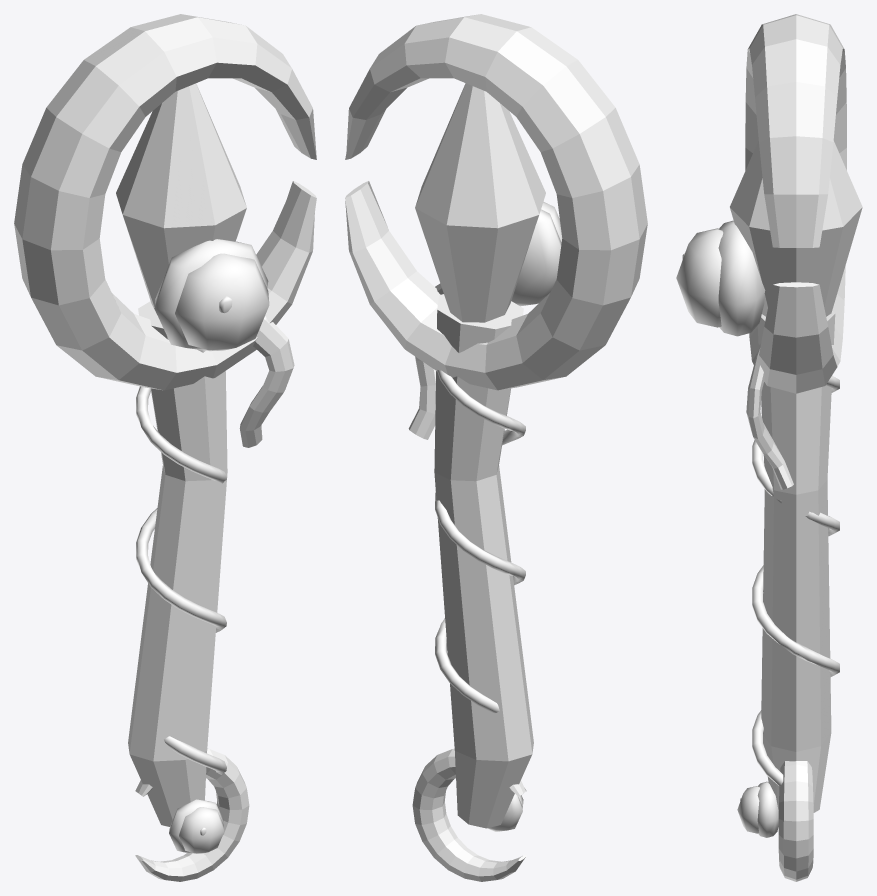
The model's file is shovel.obj.
3 renders of one model, left to right at view 1: azimuth 30°, elevation 25°; view 2: azimuth 150°, elevation 25°; view 3: azimuth 270°, elevation 25°, orthographic. The views are drawn at different scales.
Parts seen in each view (by area): view 1: head, handle, ornaments; view 2: head, handle, ornaments; view 3: head, handle, ornaments.
Boxes of the visible parts, bbox=[...] form: head: bbox=[14, 14, 316, 390]; handle: bbox=[128, 301, 249, 881]; ornaments: bbox=[154, 239, 294, 447]; head: bbox=[345, 14, 647, 390]; handle: bbox=[412, 294, 533, 881]; ornaments: bbox=[408, 202, 562, 439]; head: bbox=[730, 14, 862, 393]; handle: bbox=[737, 311, 839, 881]; ornaments: bbox=[676, 220, 793, 489].
Bounding box in the file's own units: 0.3445 × 0.9892 × 0.1986.
